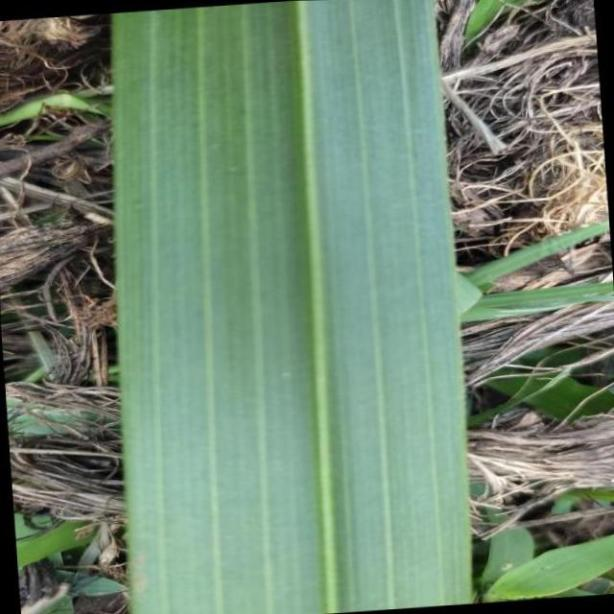Healthy: (111, 9, 473, 614)
